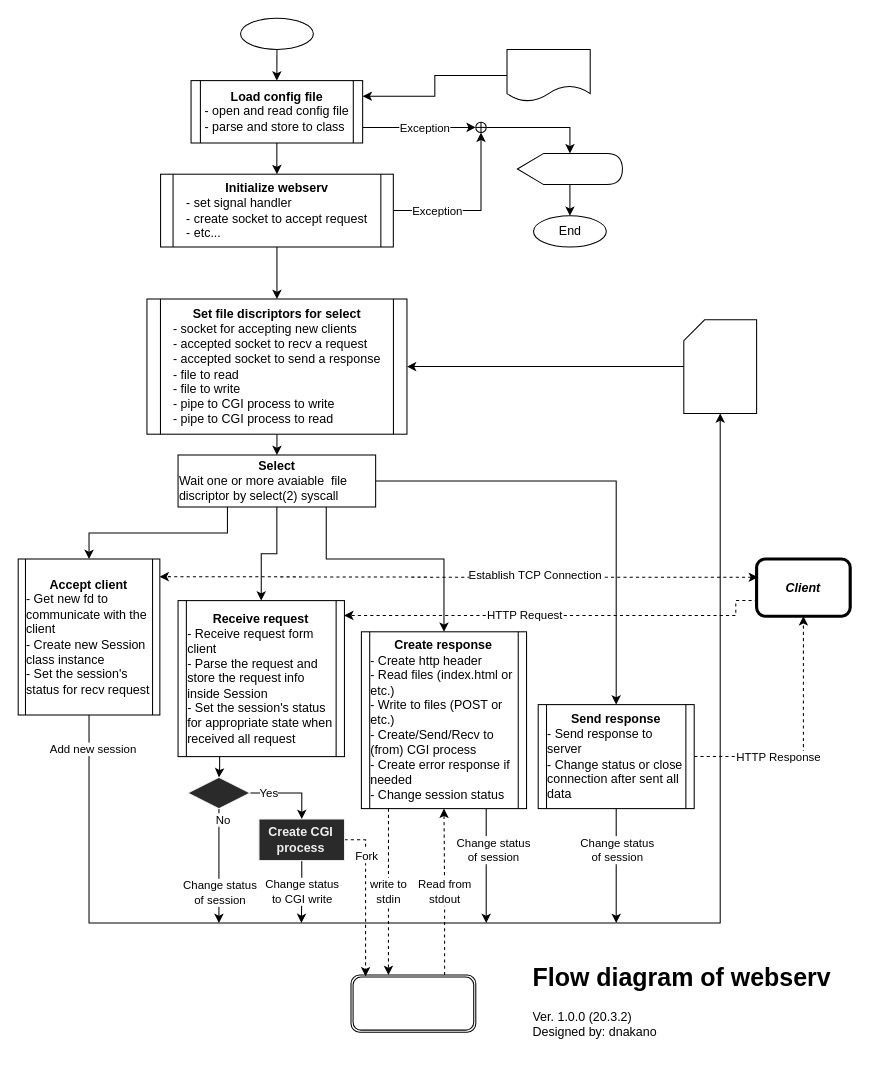
Image size: 869x1068. Some labels were removed from this diagram. The shapes that lost their labels are listed below. From the top down, each one's centre as x and y in pixels, then its label:
(276,33): Start
(548,74): Config file
(569,168): Dispray error
(720,366): Session List
(218,792): CGI?
(413,1003): CGI Process
